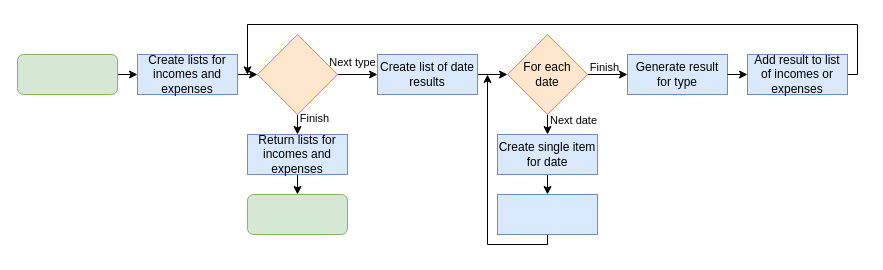
This 883x270 diagram has some shape labels left out. The box of each missing label's shape, as (x1, y1, x2, y2) in pixels:
Add item to list of dates: (496, 194, 598, 234)
End: (246, 194, 348, 234)
For each type: (256, 34, 338, 114)
Start: (16, 54, 118, 94)
